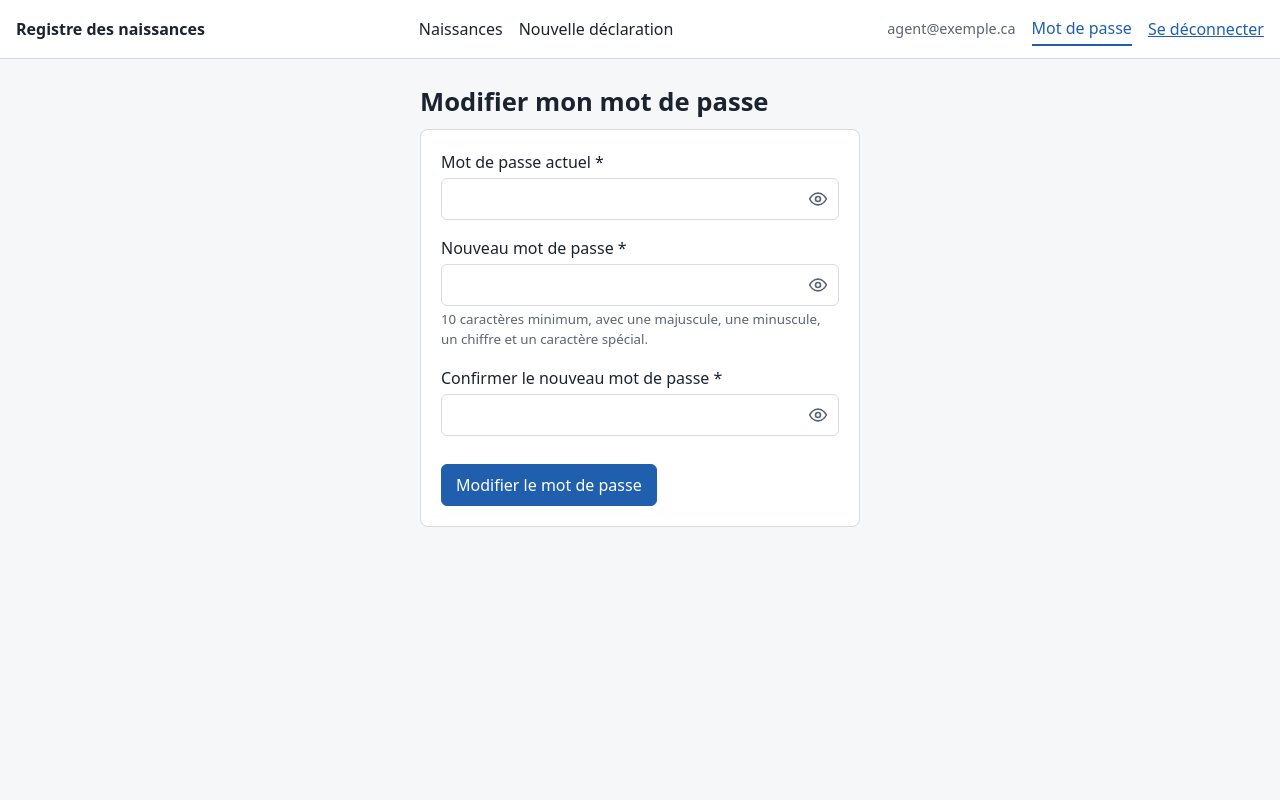
Changement de mot de passe › affiche l’erreur 422 du serveur sous « Mot de passe actuel »
Type "Faux-MotDePasse9" into the password field labelled "Mot de passe actuel *".
click(640, 199); type("Faux-MotDePasse9")  # box [441,178,839,220]
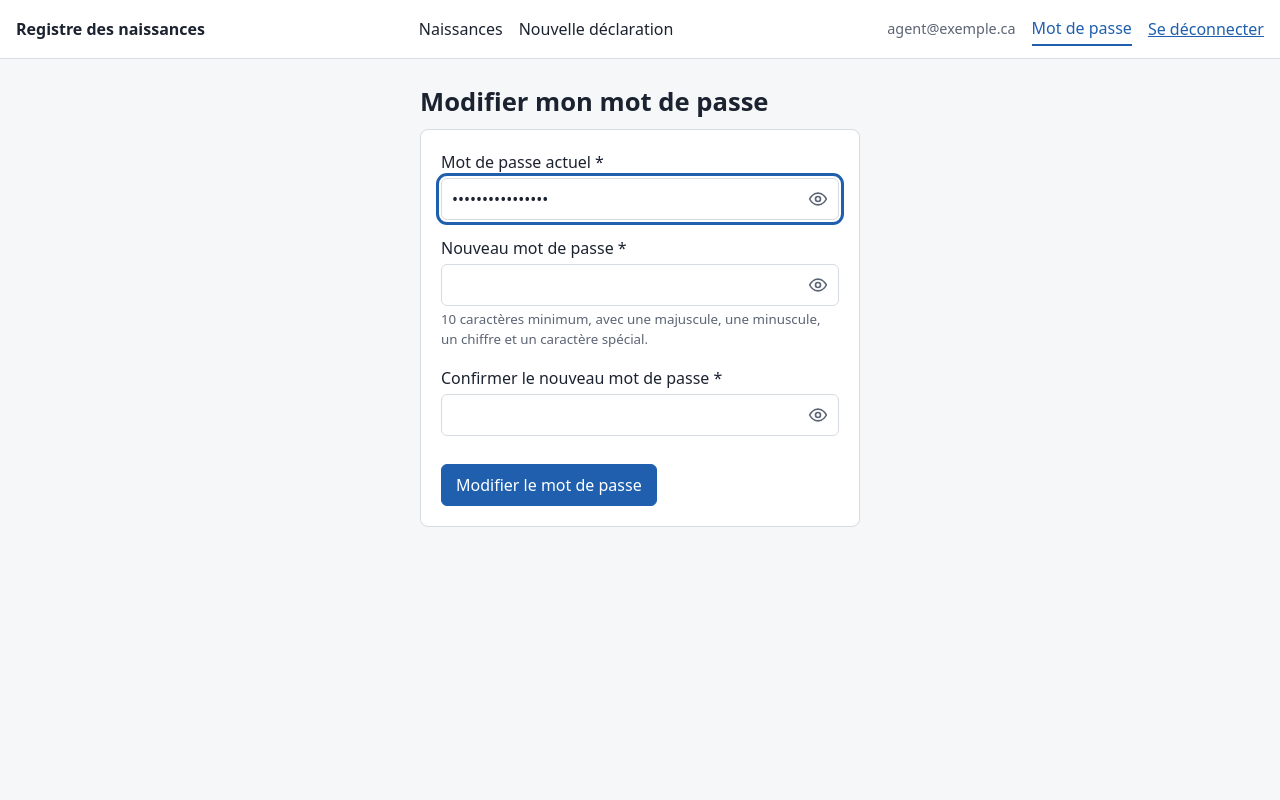
Type "Nouveau-MotDePasse2" into the password field labelled "Nouveau mot de passe *".
click(640, 285); type("Nouveau-MotDePasse2")  # box [441,264,839,306]
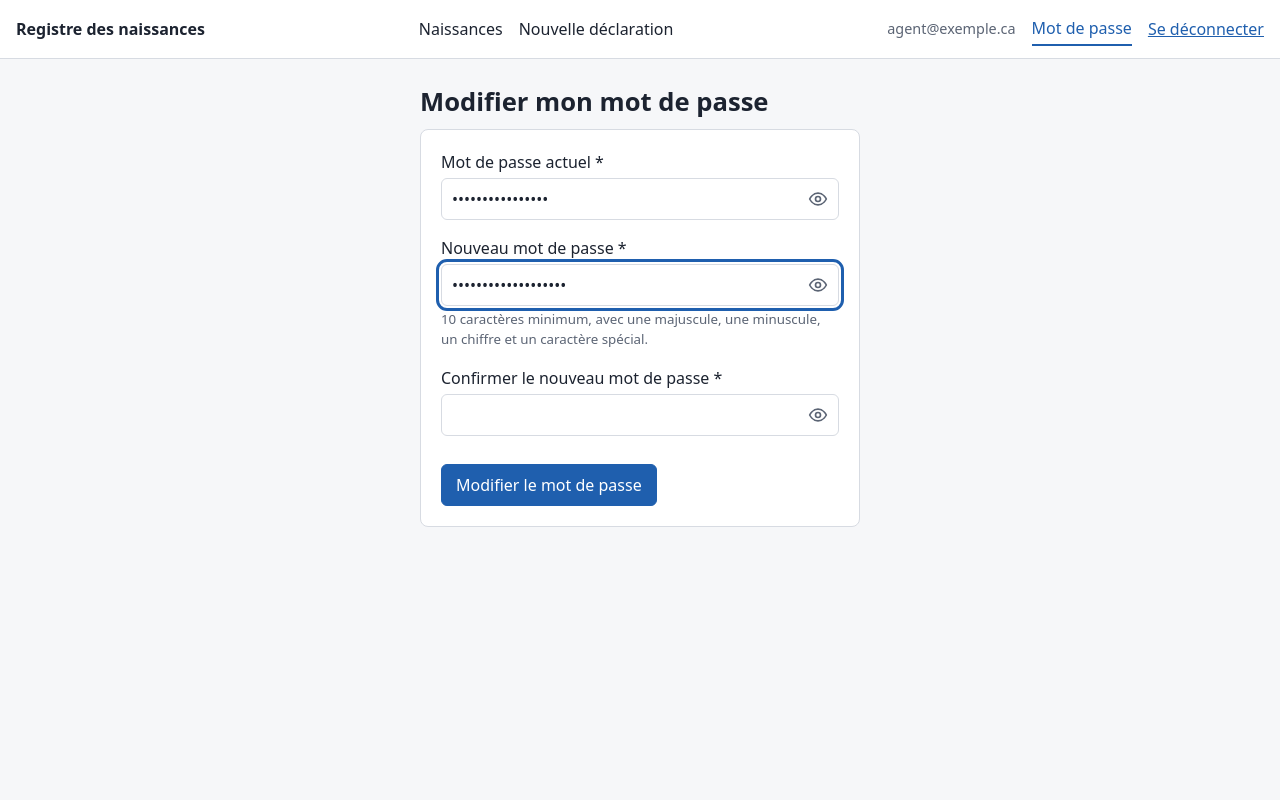
Type "Nouveau-MotDePasse2" into the password field labelled "Confirmer le nouveau mot de passe *".
click(640, 415); type("Nouveau-MotDePasse2")  # box [441,394,839,436]
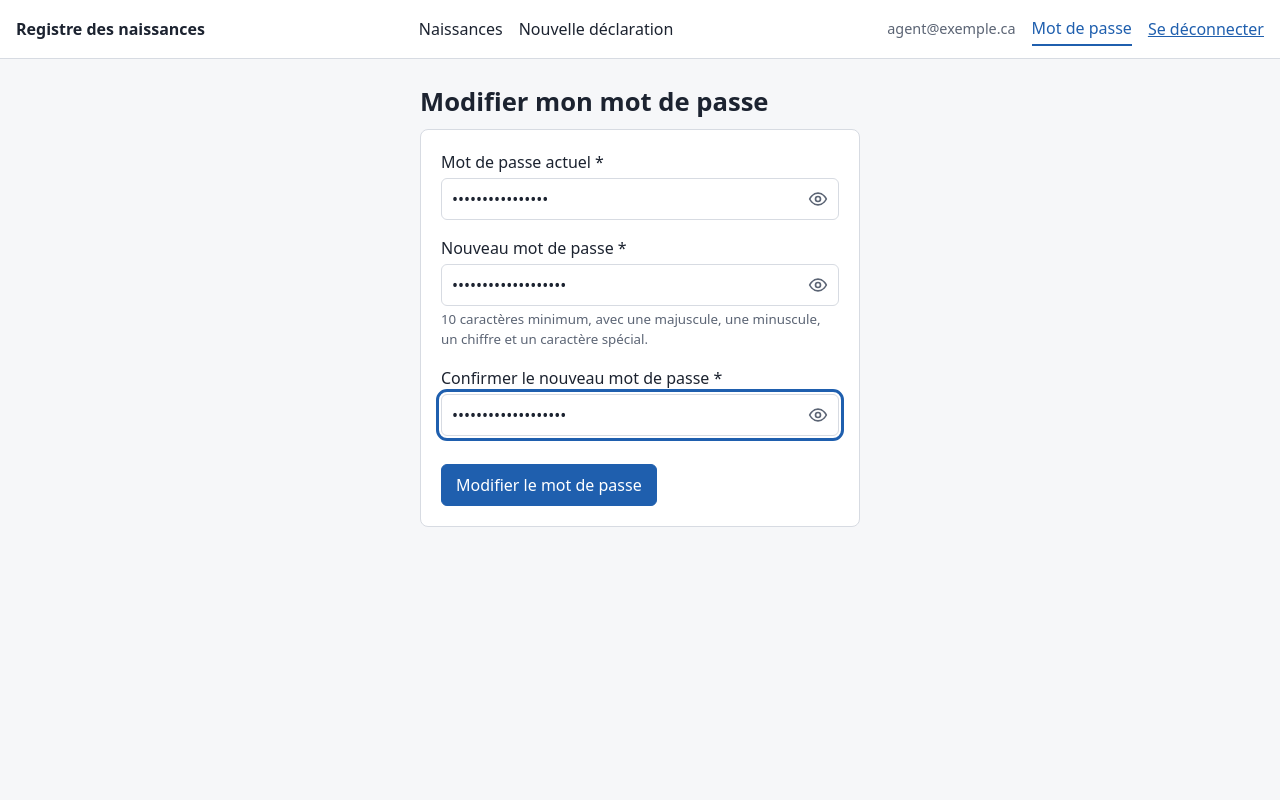
Click the button "Modifier le mot de passe".
click(549, 485)  # box [441,464,657,506]
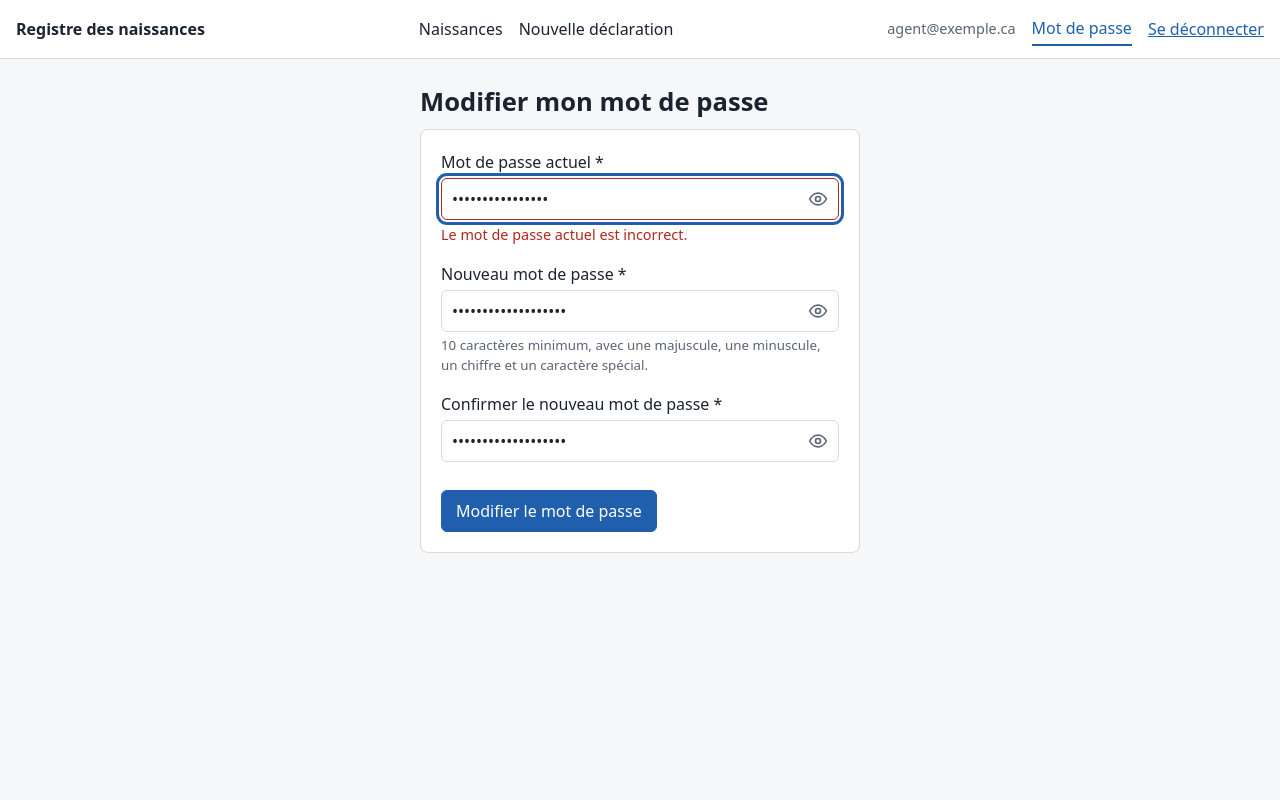
Now the text "Le mot de passe actuel est incorrect." is shown, box [441,225,687,244]
